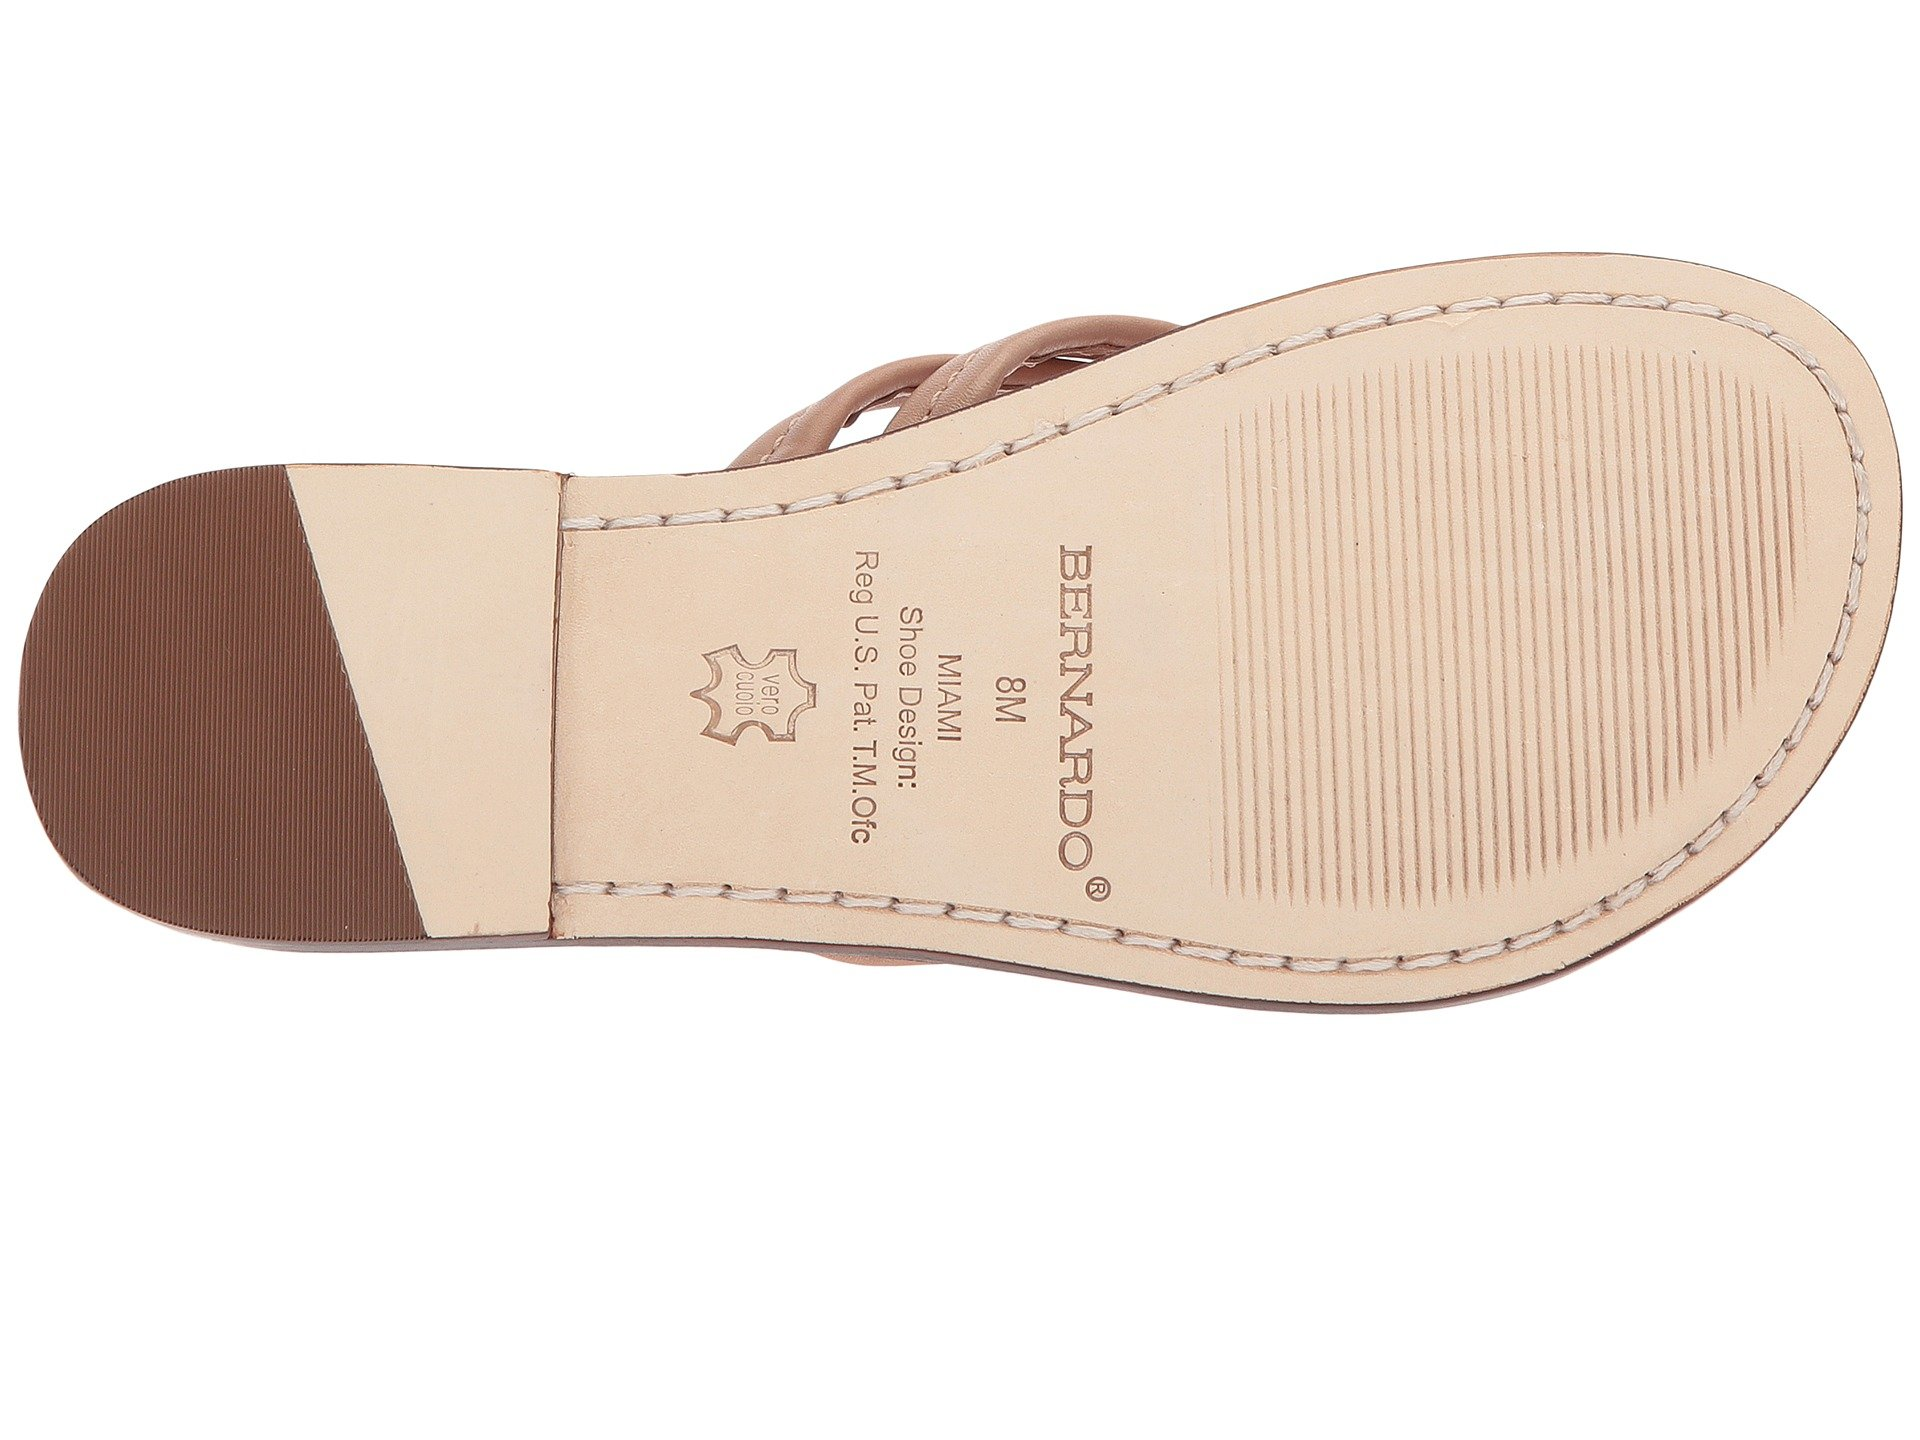line: (1273, 464, 1651, 846), (106, 593, 331, 839)
star: (658, 576, 918, 808)
text: (927, 519, 1194, 824), (658, 576, 918, 808)
